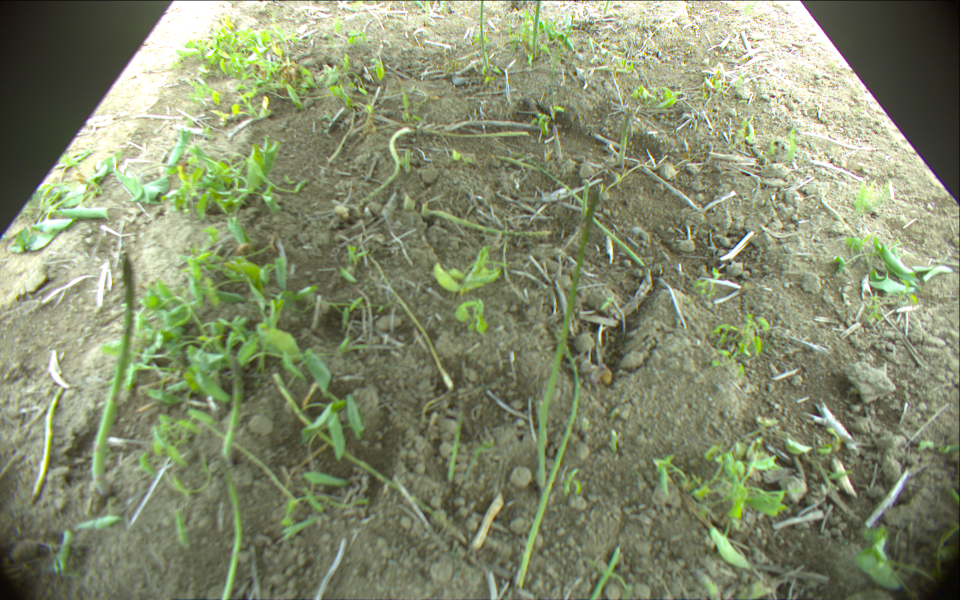aspa: (271, 374, 442, 522), (510, 338, 580, 585), (517, 151, 649, 268), (93, 253, 136, 497), (360, 127, 413, 206), (31, 387, 63, 502), (217, 461, 243, 600), (428, 211, 554, 237), (219, 352, 242, 462), (413, 128, 529, 139), (447, 406, 463, 481), (478, 1, 491, 72), (617, 114, 633, 169), (580, 179, 592, 224), (533, 1, 542, 58), (552, 123, 563, 161)
